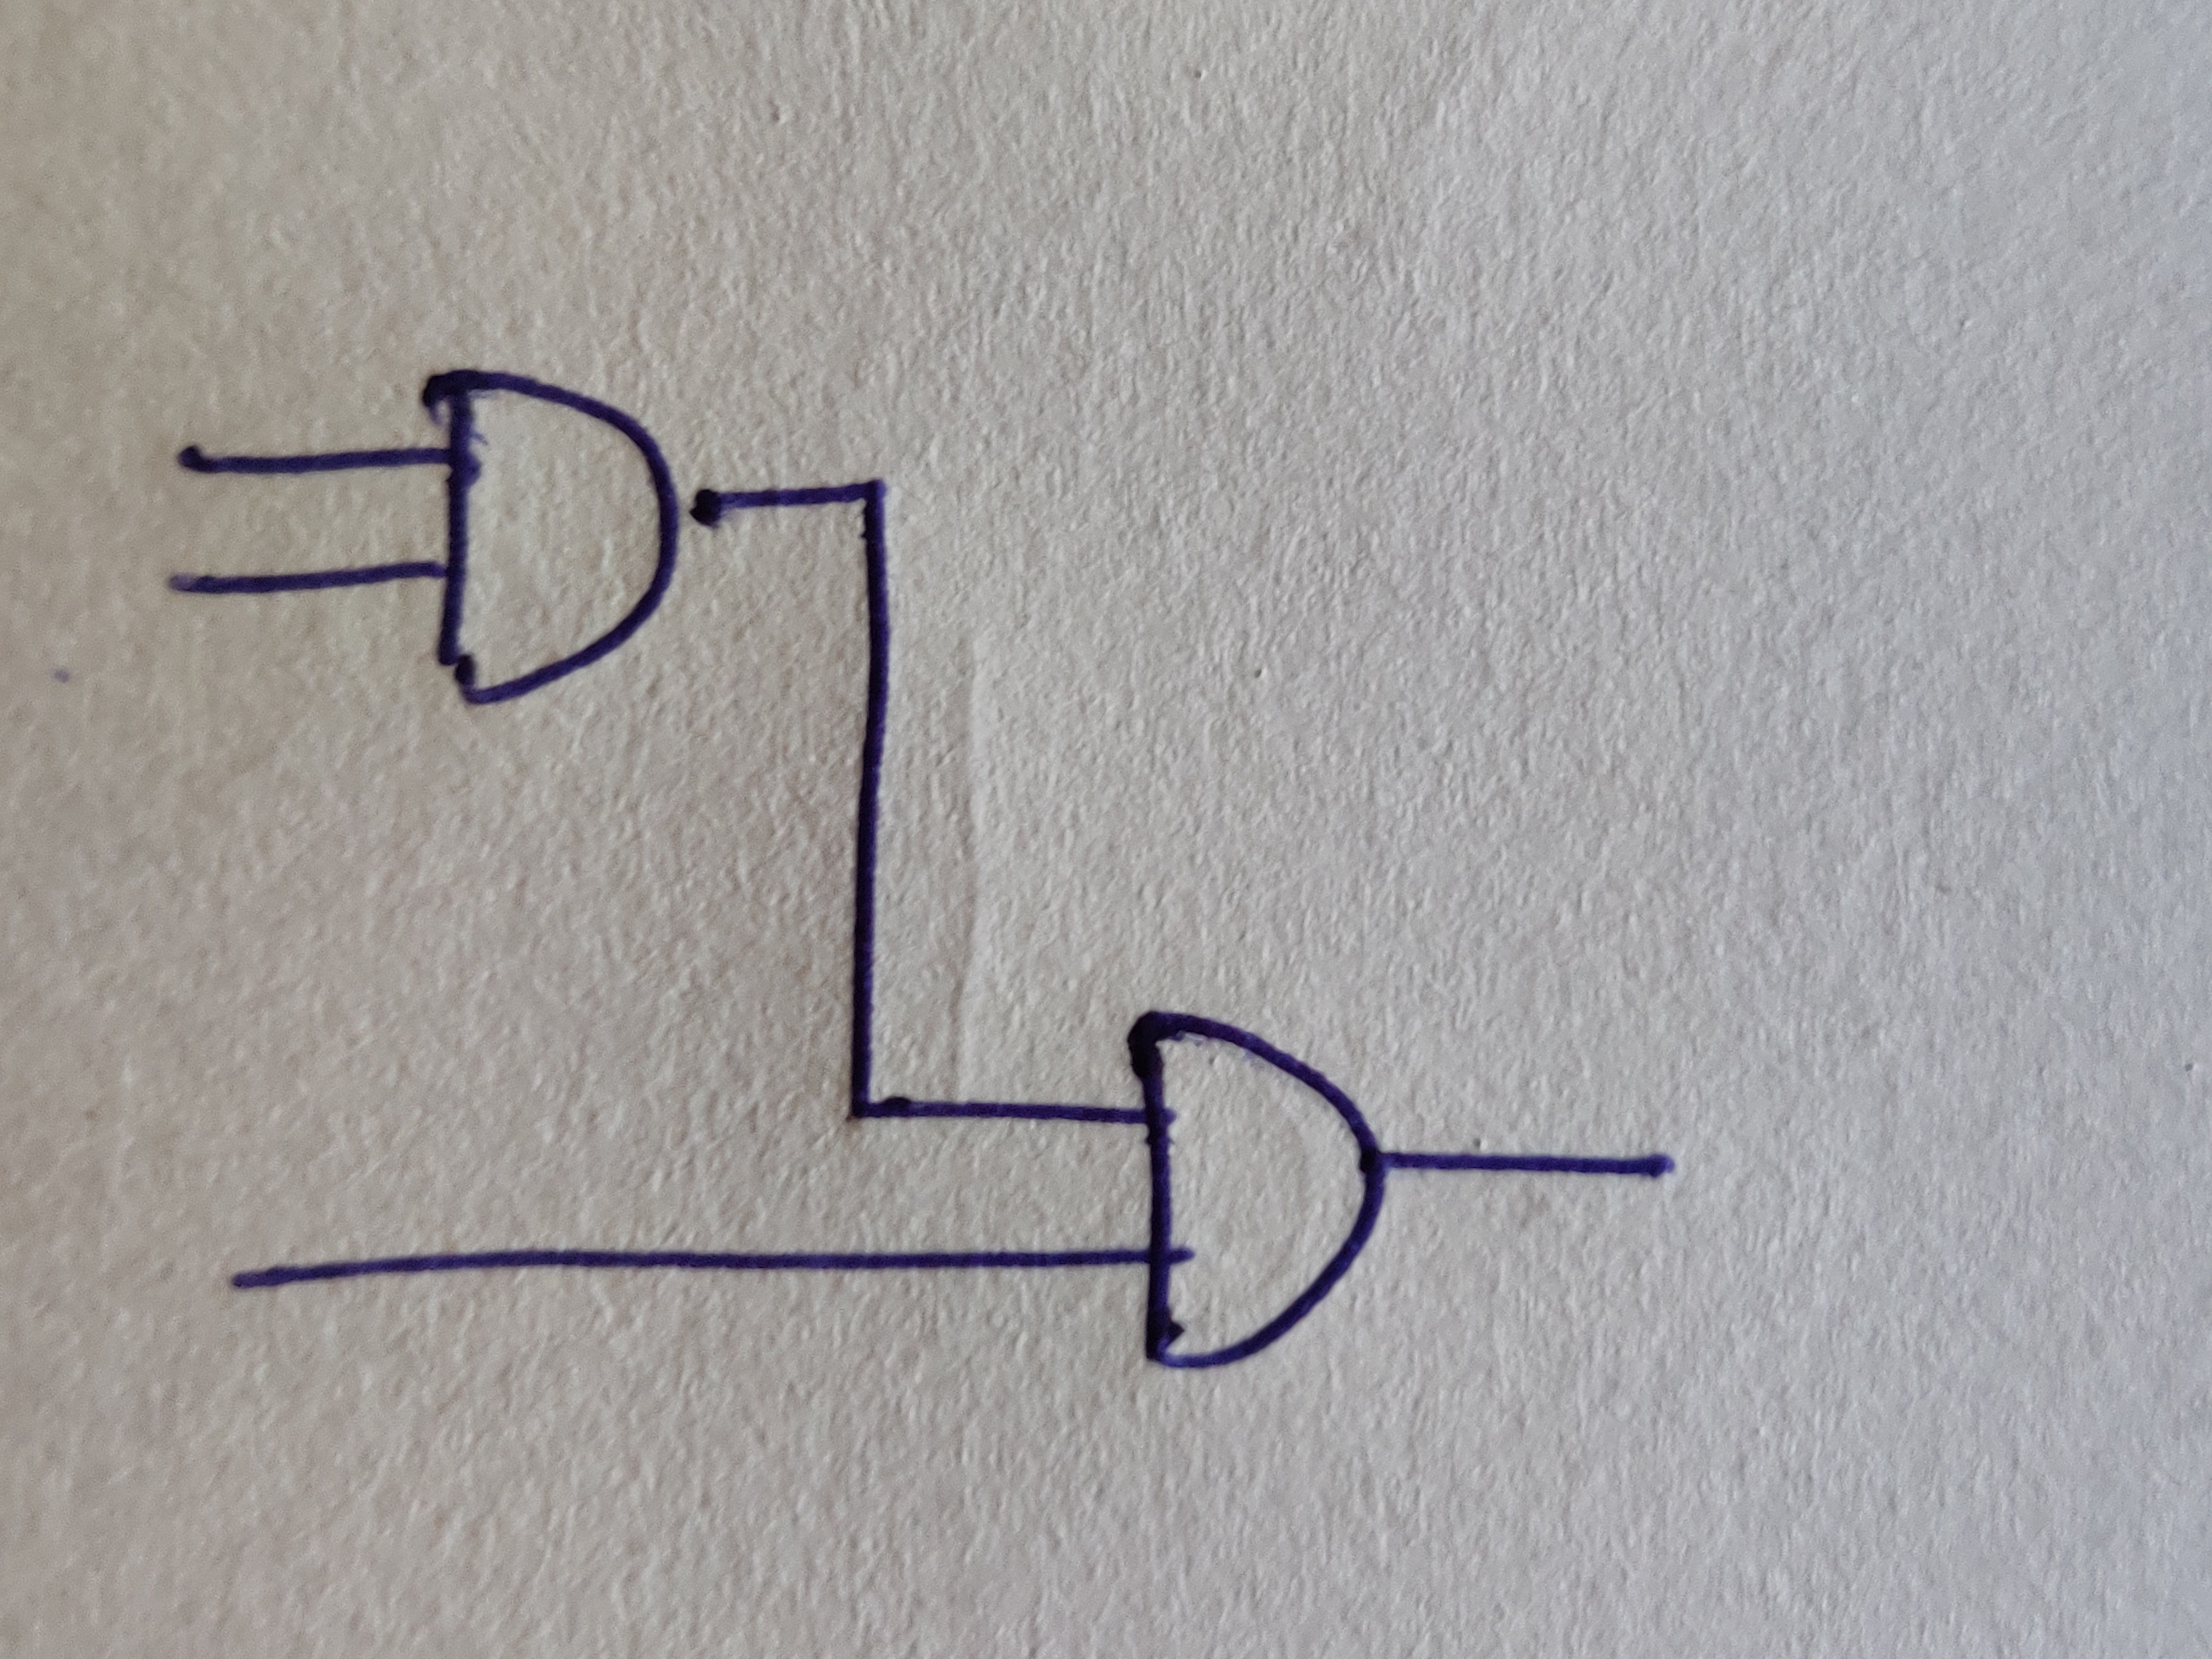and: (1127, 1011, 1383, 1370), (423, 368, 679, 708)
